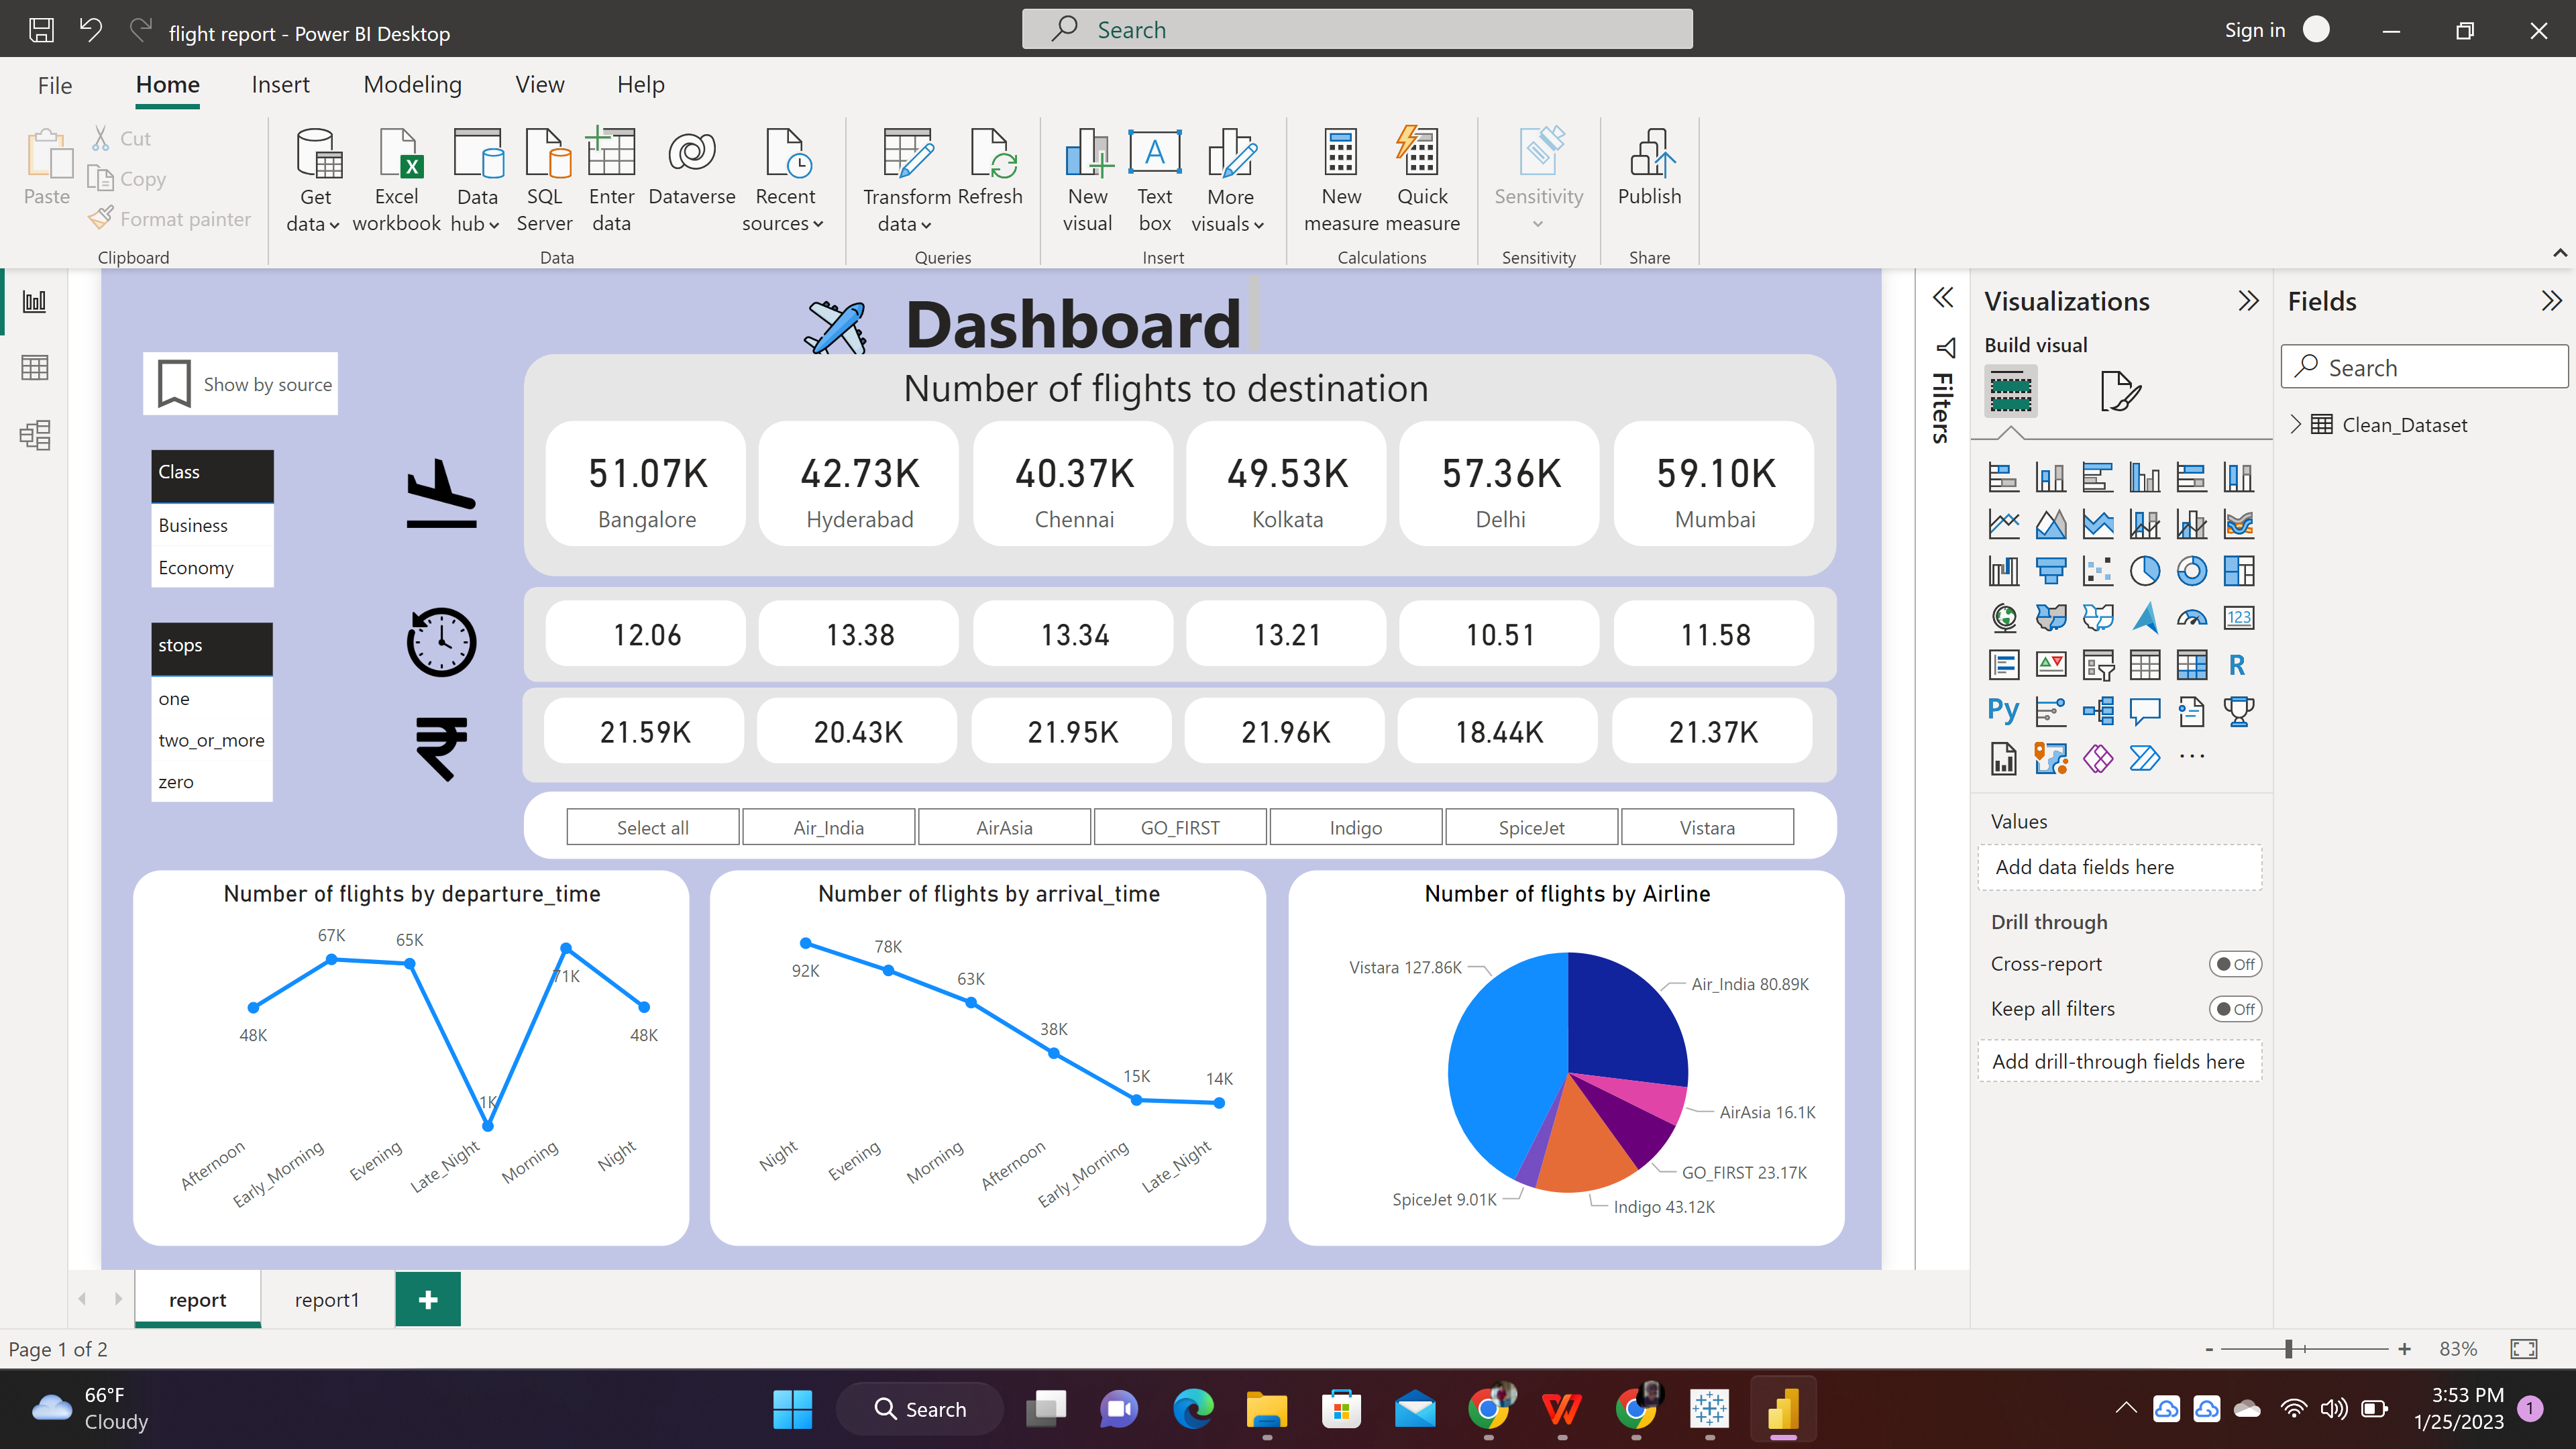

Layout of this report page (visuals, bound fields, positions):
{"tool":"powerbi","page":{"name":"report","canvas":[1280,720],"ordinal":0},"visuals":[{"type":"card","fields":{"Values":["CountNonNull(Clean_Dataset.flight)"]},"box":[319.5,123.3,144,90],"z":0,"group":"g1"},{"type":"card","fields":{"Values":["Avg(Clean_Dataset.duration)"]},"box":[319.5,239.3,144,47.1],"z":0,"group":"g2"},{"type":"shape","title":"price bg","box":[302.9,301.4,945.7,68.6],"z":0},{"type":"card","fields":{"Values":["Avg(Clean_Dataset.price)"]},"box":[318.4,315.6,144,47.1],"z":0,"group":"g3"},{"type":"image","title":"Plane","box":[461.9,18.1,131.5,55.5],"z":1000},{"type":"card","fields":{"Values":["CountNonNull(Clean_Dataset.flight)"]},"box":[626.7,123.3,144,90],"z":1000,"group":"g1"},{"type":"card","fields":{"Values":["Avg(Clean_Dataset.duration)"]},"box":[473.1,239.3,144,47.1],"z":1000,"group":"g2"},{"type":"card","fields":{"Values":["Avg(Clean_Dataset.price)"]},"box":[472,315.6,144,47.1],"z":1000,"group":"g3"},{"type":"card","fields":{"Values":["CountNonNull(Clean_Dataset.flight)"]},"box":[780.3,123.3,144,90],"z":2000,"group":"g1"},{"type":"image","title":"Time","box":[214.3,239,60,60],"z":2000},{"type":"card","fields":{"Values":["Avg(Clean_Dataset.duration)"]},"box":[626.7,239.3,144,47.1],"z":2000,"group":"g2"},{"type":"card","fields":{"Values":["Avg(Clean_Dataset.price)"]},"box":[625.6,315.6,144,47.1],"z":2000,"group":"g3"},{"type":"card","fields":{"Values":["CountNonNull(Clean_Dataset.flight)"]},"box":[473.1,123.3,144,90],"z":3000,"group":"g1"},{"type":"card","fields":{"Values":["Avg(Clean_Dataset.duration)"]},"box":[780.3,239.3,144,47.1],"z":3000,"group":"g2"},{"type":"card","fields":{"Values":["Avg(Clean_Dataset.price)"]},"box":[779.2,315.6,144,47.1],"z":3000,"group":"g3"},{"type":"image","title":"Rs","box":[214.3,316.2,60,60],"z":3000},{"type":"card","fields":{"Values":["CountNonNull(Clean_Dataset.flight)"]},"box":[933.9,123.3,144,90],"z":4000,"group":"g1"},{"type":"shape","title":"duration bg","box":[303.8,229,944.3,68.6],"z":4000},{"type":"card","fields":{"Values":["Avg(Clean_Dataset.duration)"]},"box":[933.9,239.3,144,47.1],"z":4000,"group":"g2"},{"type":"card","fields":{"Values":["Avg(Clean_Dataset.price)"]},"box":[932.8,315.6,144,47.1],"z":4000,"group":"g3"},{"type":"shape","title":"# of flights bg","box":[303.5,61.3,944,160],"z":5000},{"type":"card","fields":{"Values":["CountNonNull(Clean_Dataset.flight)"]},"box":[1087.5,123.3,144,90],"z":5000,"group":"g1"},{"type":"card","fields":{"Values":["Avg(Clean_Dataset.duration)"]},"box":[1087.5,239.3,144,47.1],"z":5000,"group":"g2"},{"type":"card","fields":{"Values":["Avg(Clean_Dataset.price)"]},"box":[1086.4,315.6,144,47.1],"z":5000,"group":"g3"},{"type":"lineChart","title":"Number of flights by arrival_time","fields":{"Category":["Clean_Dataset.arrival_time"],"Y":["CountNonNull(Clean_Dataset.flight)"]},"box":[438.3,433.3,400,270],"z":6000},{"type":"textbox","title":"# of flights by source","box":[566.8,73.6,416.1,63.9],"z":7000},{"type":"group","id":"g1","title":"Flights by source","box":[319.5,123.3,912,90],"z":8000},{"type":"lineChart","title":"Number of flights by departure_time","fields":{"Y":["CountNonNull(Clean_Dataset.flight)"],"Category":["Clean_Dataset.departure_time"]},"box":[23.3,433.3,400,270],"z":11000},{"type":"textbox","title":"Page Header","box":[554.8,0,283.4,68.7],"z":12000},{"type":"slicer","title":"Slicer Airline","fields":{"Values":["Clean_Dataset.airline"]},"box":[303.9,376.3,944.3,48.2],"z":13000},{"type":"actionButton","title":"show by destination button","box":[30,60,165,45],"z":15000},{"type":"group","id":"g2","title":"duration by source","box":[319.5,239.3,912,47.1],"z":16000},{"type":"group","id":"g3","title":"price by source","box":[318.4,315.6,912.2,47.8],"z":19000},{"type":"image","title":"takeoff","box":[209.8,126.1,70,70],"z":21000},{"type":"tableEx","fields":{"Values":["Clean_Dataset.class"]},"box":[30,125.7,134.3,124.3],"z":22000},{"type":"tableEx","fields":{"Values":["Clean_Dataset.stops"]},"box":[30.2,249.6,156.8,149.5],"z":23000},{"type":"pieChart","title":"Number of flights by Airline","fields":{"Category":["Clean_Dataset.airline"],"Y":["CountNonNull(Clean_Dataset.flight)"]},"box":[853.3,433.3,400,270],"z":24000}]}

Visuals, with their boxes on the page's 1280x720 design canvas (x1, y1, x2, y2). These are canvas units, not pixel positions in the 2576x1449 screenshot, which may show the page scaled, cropped or inside an application window:
card - CountNonNull(Clean_Dataset.flight): <bbox>320, 123, 464, 213</bbox>
card - Avg(Clean_Dataset.duration): <bbox>320, 239, 464, 286</bbox>
"price bg" shape: <bbox>303, 301, 1249, 370</bbox>
card - Avg(Clean_Dataset.price): <bbox>318, 316, 462, 363</bbox>
"Plane" image: <bbox>462, 18, 593, 74</bbox>
card - CountNonNull(Clean_Dataset.flight): <bbox>627, 123, 771, 213</bbox>
card - Avg(Clean_Dataset.duration): <bbox>473, 239, 617, 286</bbox>
card - Avg(Clean_Dataset.price): <bbox>472, 316, 616, 363</bbox>
card - CountNonNull(Clean_Dataset.flight): <bbox>780, 123, 924, 213</bbox>
"Time" image: <bbox>214, 239, 274, 299</bbox>
card - Avg(Clean_Dataset.duration): <bbox>627, 239, 771, 286</bbox>
card - Avg(Clean_Dataset.price): <bbox>626, 316, 770, 363</bbox>
card - CountNonNull(Clean_Dataset.flight): <bbox>473, 123, 617, 213</bbox>
card - Avg(Clean_Dataset.duration): <bbox>780, 239, 924, 286</bbox>
card - Avg(Clean_Dataset.price): <bbox>779, 316, 923, 363</bbox>
"Rs" image: <bbox>214, 316, 274, 376</bbox>
card - CountNonNull(Clean_Dataset.flight): <bbox>934, 123, 1078, 213</bbox>
"duration bg" shape: <bbox>304, 229, 1248, 298</bbox>
card - Avg(Clean_Dataset.duration): <bbox>934, 239, 1078, 286</bbox>
card - Avg(Clean_Dataset.price): <bbox>933, 316, 1077, 363</bbox>
"# of flights bg" shape: <bbox>304, 61, 1248, 221</bbox>
card - CountNonNull(Clean_Dataset.flight): <bbox>1088, 123, 1232, 213</bbox>
card - Avg(Clean_Dataset.duration): <bbox>1088, 239, 1232, 286</bbox>
card - Avg(Clean_Dataset.price): <bbox>1086, 316, 1230, 363</bbox>
"Number of flights by arrival_time" lineChart: <bbox>438, 433, 838, 703</bbox>
"# of flights by source" textbox: <bbox>567, 74, 983, 138</bbox>
"Flights by source" group: <bbox>320, 123, 1232, 213</bbox>
"Number of flights by departure_time" lineChart: <bbox>23, 433, 423, 703</bbox>
"Page Header" textbox: <bbox>555, 0, 838, 69</bbox>
"Slicer Airline" slicer: <bbox>304, 376, 1248, 424</bbox>
"show by destination button" actionButton: <bbox>30, 60, 195, 105</bbox>
"duration by source" group: <bbox>320, 239, 1232, 286</bbox>
"price by source" group: <bbox>318, 316, 1231, 363</bbox>
"takeoff" image: <bbox>210, 126, 280, 196</bbox>
tableEx - Clean_Dataset.class: <bbox>30, 126, 164, 250</bbox>
tableEx - Clean_Dataset.stops: <bbox>30, 250, 187, 399</bbox>
"Number of flights by Airline" pieChart: <bbox>853, 433, 1253, 703</bbox>
